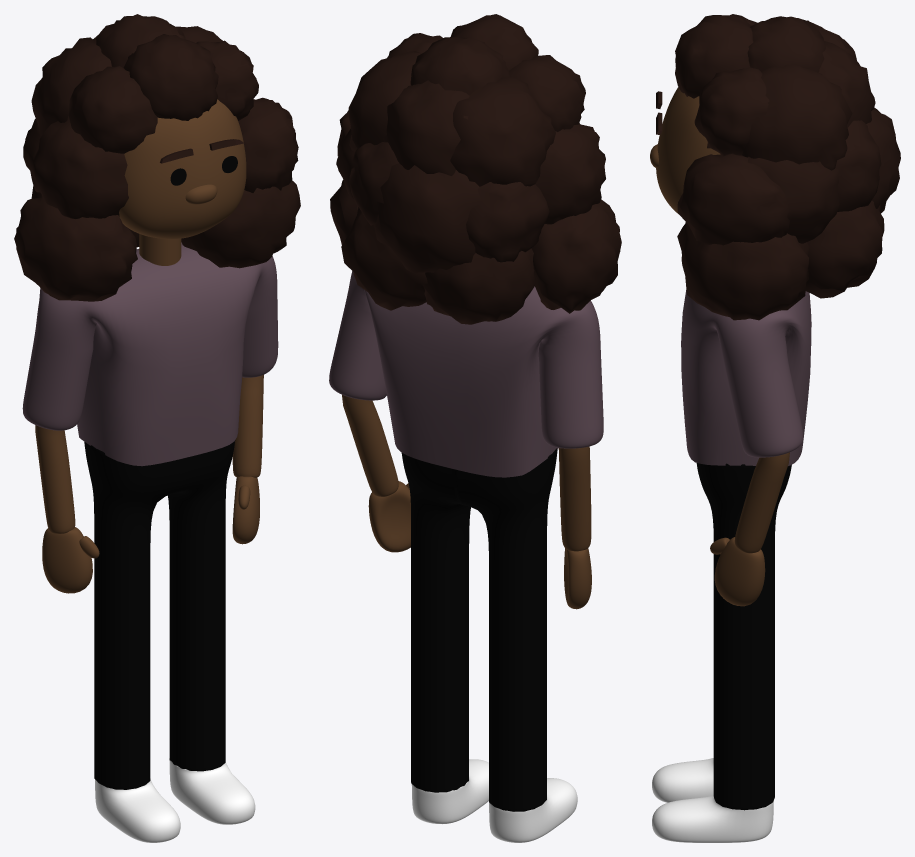
File: AdamMom.fbx
The picture shows the model from 3 angles, left to right: view 1: azimuth 30°, elevation 25°; view 2: azimuth 150°, elevation 25°; view 3: azimuth 270°, elevation 25°; orthographic projection. The views are drawn at different scales.
Parts seen in each view (by area): view 1: black-girl-shirt, black-girl-pants, black-girl-head, Cube.035, black-girl-shoes, Cube.042, Cube.032, Cube.036, black-girl-arms, Cube.033, black-girl-hands, Cube.034 (+5 smaller); view 2: black-girl-pants, black-girl-shirt, Cube.001, Cube.043, Cube.035, black-girl-arms, Cube.038, black-girl-shoes, Cube.040, Cube.051, Cube.042, Cube.050 (+9 smaller); view 3: black-girl-shirt, black-girl-pants, Cube.036, Cube.047, Cube.034, black-girl-shoes, Cube.050, Cube.037, Cube.032, Cube.049, black-girl-head, Cube.039 (+5 smaller).
Boxes of the visible parts, <box> form: black-girl-shirt: <box>22,242,278,466</box>; black-girl-pants: <box>84,440,235,789</box>; black-girl-head: <box>119,99,246,238</box>; Cube.035: <box>14,194,137,301</box>; black-girl-shoes: <box>95,758,255,842</box>; Cube.042: <box>32,120,128,218</box>; Cube.032: <box>123,34,218,120</box>; Cube.036: <box>181,180,300,268</box>; black-girl-arms: <box>35,375,263,533</box>; Cube.033: <box>67,66,157,153</box>; black-girl-hands: <box>42,476,259,593</box>; Cube.034: <box>238,97,298,192</box>; black-girl-pants: <box>401,448,557,811</box>; black-girl-shirt: <box>329,271,603,477</box>; Cube.001: <box>373,163,481,272</box>; Cube.043: <box>450,77,555,186</box>; Cube.035: <box>531,199,621,313</box>; black-girl-arms: <box>342,395,591,551</box>; Cube.038: <box>422,248,535,324</box>; black-girl-shoes: <box>411,759,577,842</box>; Cube.040: <box>383,80,469,175</box>; Cube.051: <box>466,182,549,262</box>; Cube.042: <box>535,122,605,224</box>; Cube.050: <box>341,207,427,310</box>; black-girl-shirt: <box>681,290,811,465</box>; black-girl-pants: <box>696,463,791,810</box>; Cube.036: <box>677,222,809,320</box>; Cube.047: <box>742,64,852,170</box>; Cube.034: <box>677,154,789,245</box>; black-girl-shoes: <box>652,758,773,842</box>; Cube.050: <box>805,200,884,298</box>; Cube.037: <box>694,67,769,156</box>; Cube.032: <box>675,14,753,98</box>; Cube.049: <box>732,154,839,243</box>; black-girl-head: <box>656,87,720,214</box>; Cube.039: <box>747,16,825,72</box>.
Bounding box in the file's own units: 223 × 624 × 179.
